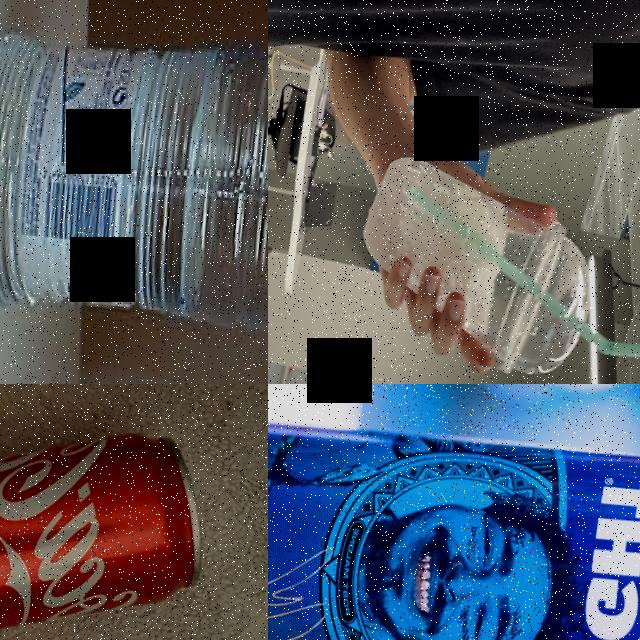bottle: (0, 8, 268, 362)
can: (268, 411, 640, 640), (0, 389, 214, 640)
cup: (347, 152, 601, 382)
